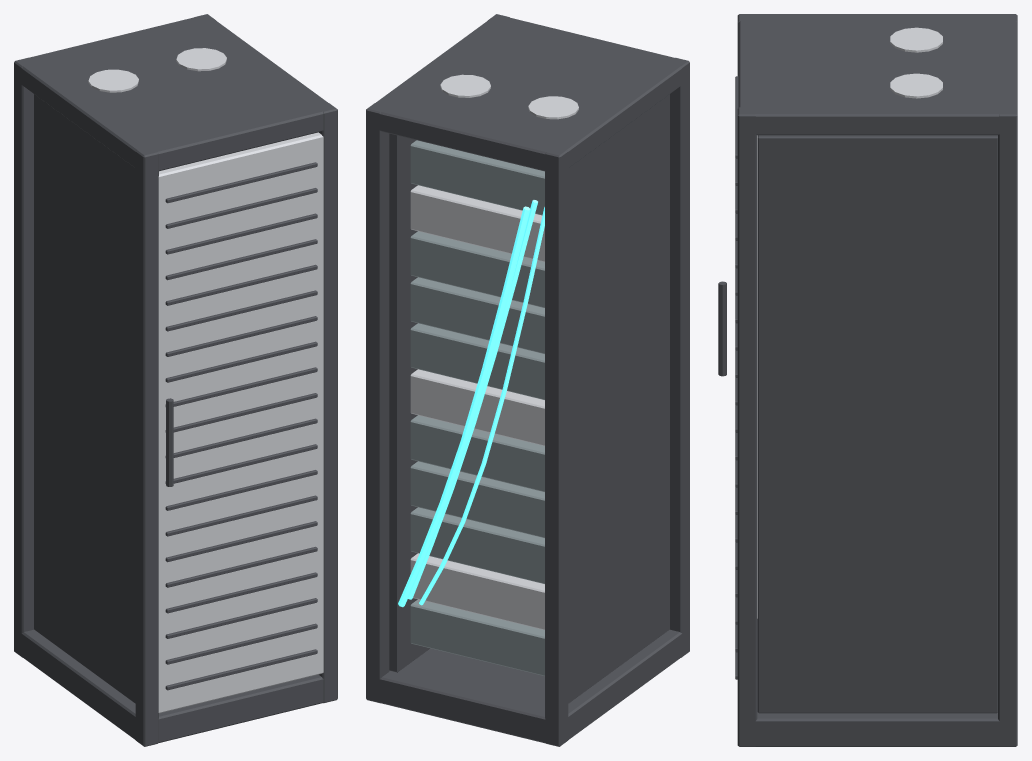
The model's file is cyberpunk-apartment-and-neon-block-server-cabinet-534333b8__37822.glb.
3 renders of one model, left to right at view 1: azimuth 30°, elevation 25°; view 2: azimuth 150°, elevation 25°; view 3: azimuth 270°, elevation 25°, orthographic. The views are drawn at different scales.
Parts seen in each view (by area): view 1: server-cabinet, door/metal, door/dark; view 2: server-cabinet; view 3: server-cabinet, door/dark.
Boxes of the visible parts, x1=… form: server-cabinet: x1=14, y1=14, x2=337, y2=746; door/metal: x1=158, y1=132, x2=323, y2=713; door/dark: x1=165, y1=162, x2=317, y2=690; server-cabinet: x1=366, y1=14, x2=689, y2=746; server-cabinet: x1=737, y1=14, x2=1017, y2=746; door/dark: x1=718, y1=76, x2=738, y2=679.
Bounding box in the file's own units: 0.6199 × 1.81 × 0.771.
